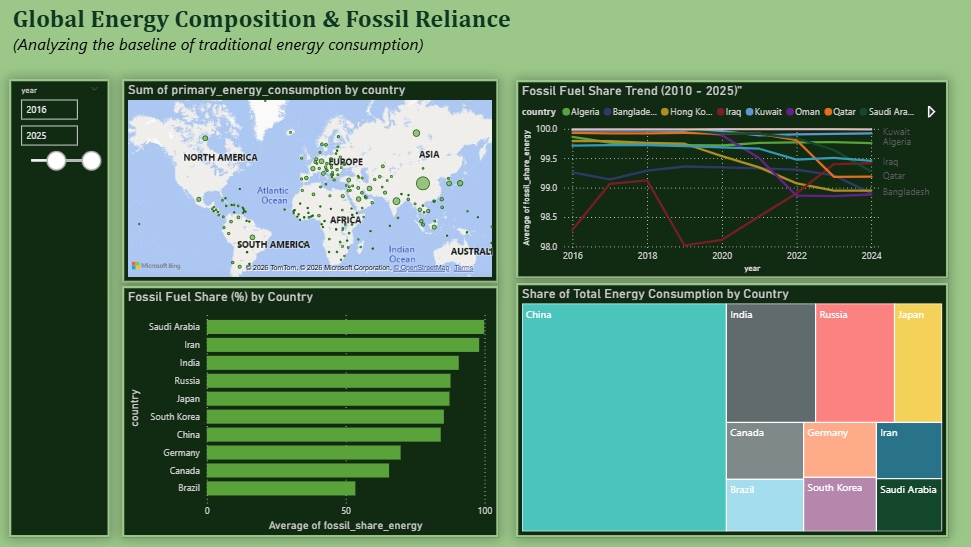

The dashboard page shown, as its layout file describes it:
{"tool":"powerbi","page":{"name":"Fossil Audit","canvas":[1280,720],"ordinal":0},"visuals":[{"type":"map","fields":{"Category":["data.country"],"Size":["Sum(data.primary_energy_consumption)"]},"box":[164.3,102.9,492.9,267.1],"z":0},{"type":"clusteredBarChart","title":"Fossil Fuel Share (%) by Country","fields":{"Category":["data.country"],"Y":["Avg(data.fossil_share_energy)"]},"box":[163.8,374.4,492.7,328.9],"z":1000},{"type":"lineChart","title":"Fossil Fuel Share Trend (2010 - 2025)\"","fields":{"Category":["data.year"],"Y":["Avg(data.fossil_share_energy)"],"Series":["data.country"]},"box":[680,104.3,565.7,260],"z":2000},{"type":"treemap","title":"Share of Total Energy Consumption by Country","fields":{"Group":["data.country"],"Values":["Sum(data.primary_energy_consumption)"]},"box":[679.9,370.2,565.7,333.1],"z":3000},{"type":"slicer","fields":{"Values":["data.year"]},"box":[15.1,103.2,132.1,600.1],"z":4000},{"type":"textbox","box":[15.7,0,852.9,88.6],"z":5000}]}

Visuals, with their boxes in screenshot pixels (x1, y1, x2, y2), scaled from the page's 1280x720 canvas onto the 971x547 screenshot:
map - data.country x Sum(data.primary_energy_consumption): x1=125 y1=78 x2=499 y2=281
"Fossil Fuel Share (%) by Country" clusteredBarChart: x1=124 y1=284 x2=498 y2=534
"Fossil Fuel Share Trend (2010 - 2025)"" lineChart: x1=516 y1=79 x2=945 y2=277
"Share of Total Energy Consumption by Country" treemap: x1=516 y1=281 x2=945 y2=534
slicer - data.year: x1=11 y1=78 x2=112 y2=534
textbox: x1=12 y1=0 x2=659 y2=67
